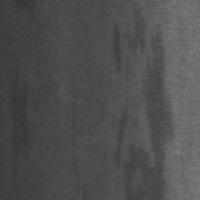inclusion: (112, 10, 177, 200), (5, 67, 36, 191), (67, 98, 91, 199), (106, 16, 125, 76)
